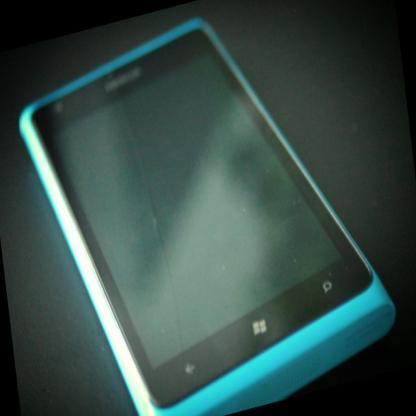Scratches: (136, 193, 204, 350), (99, 77, 173, 183)
